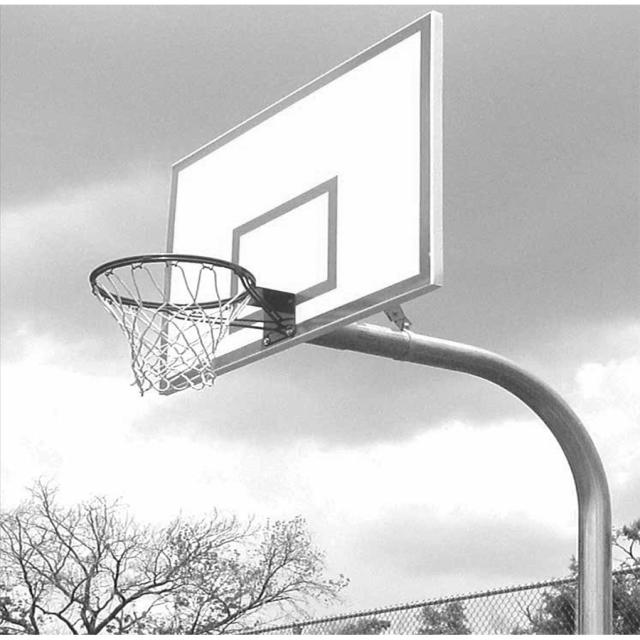backboard: (151, 12, 432, 386)
